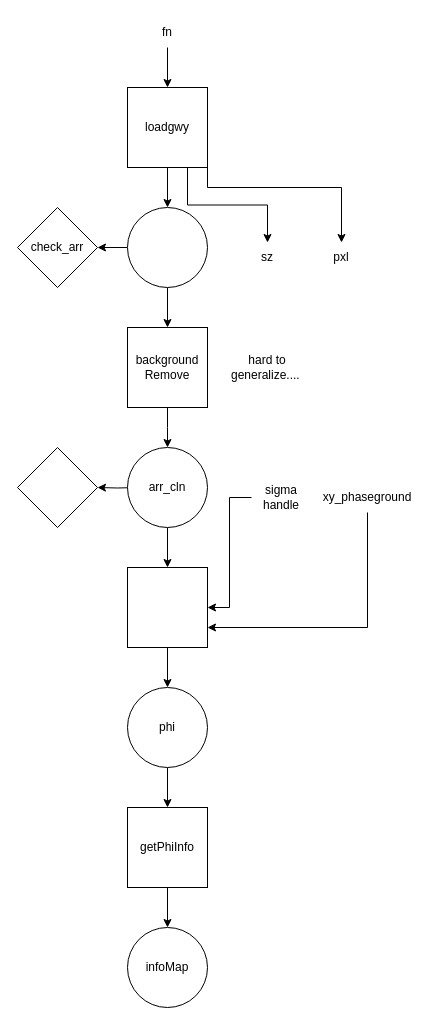
This 429x1025 diagram has some shape labels left out. The box of each missing label's shape, as (x1, y1, x2, y2) in pixels:
arr: (126, 206, 208, 288)
check_arr_cln: (16, 446, 98, 528)
get phi-map: (126, 566, 208, 648)
